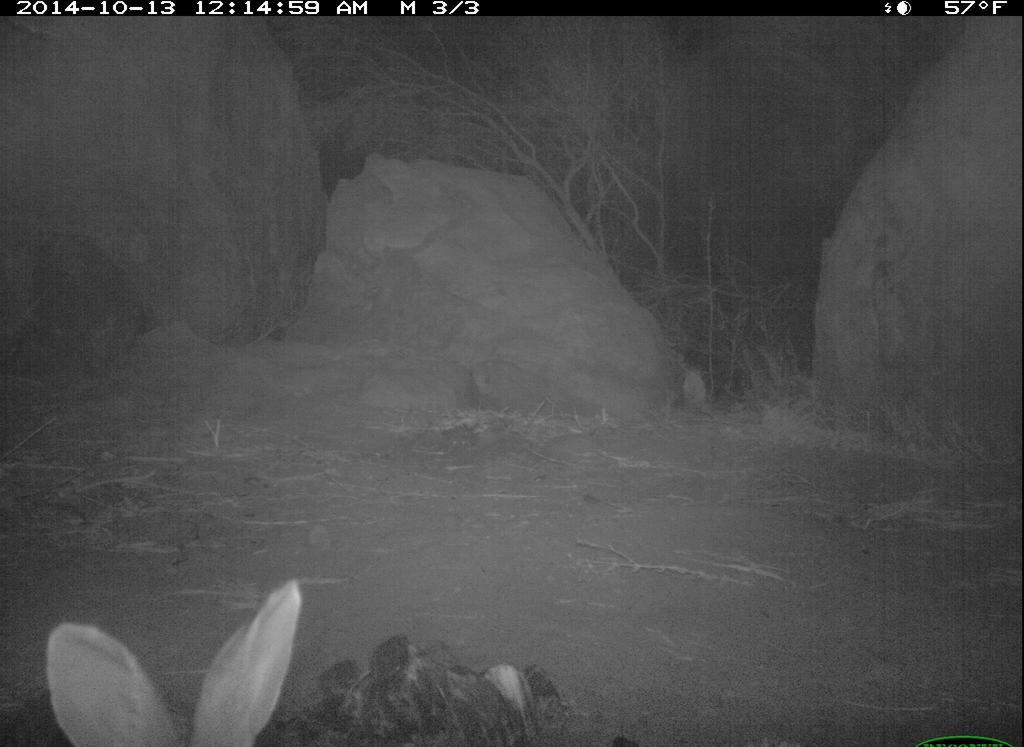rabbit: (34, 570, 319, 747)
